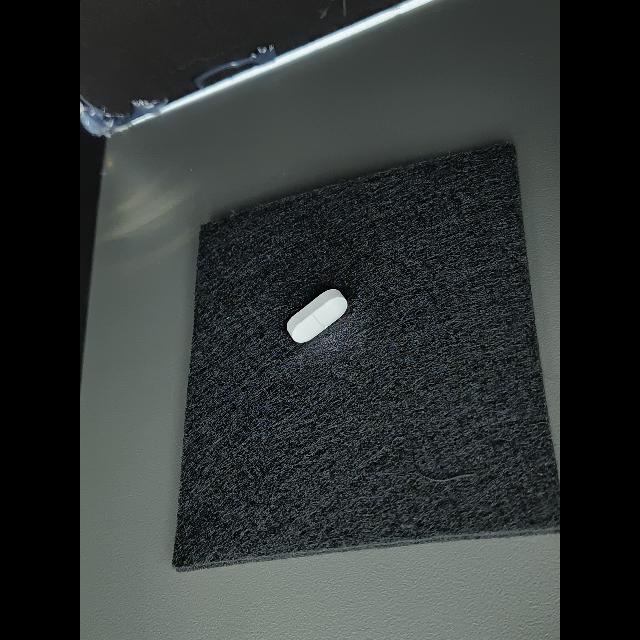Intact Pill: (287, 289, 348, 343)
